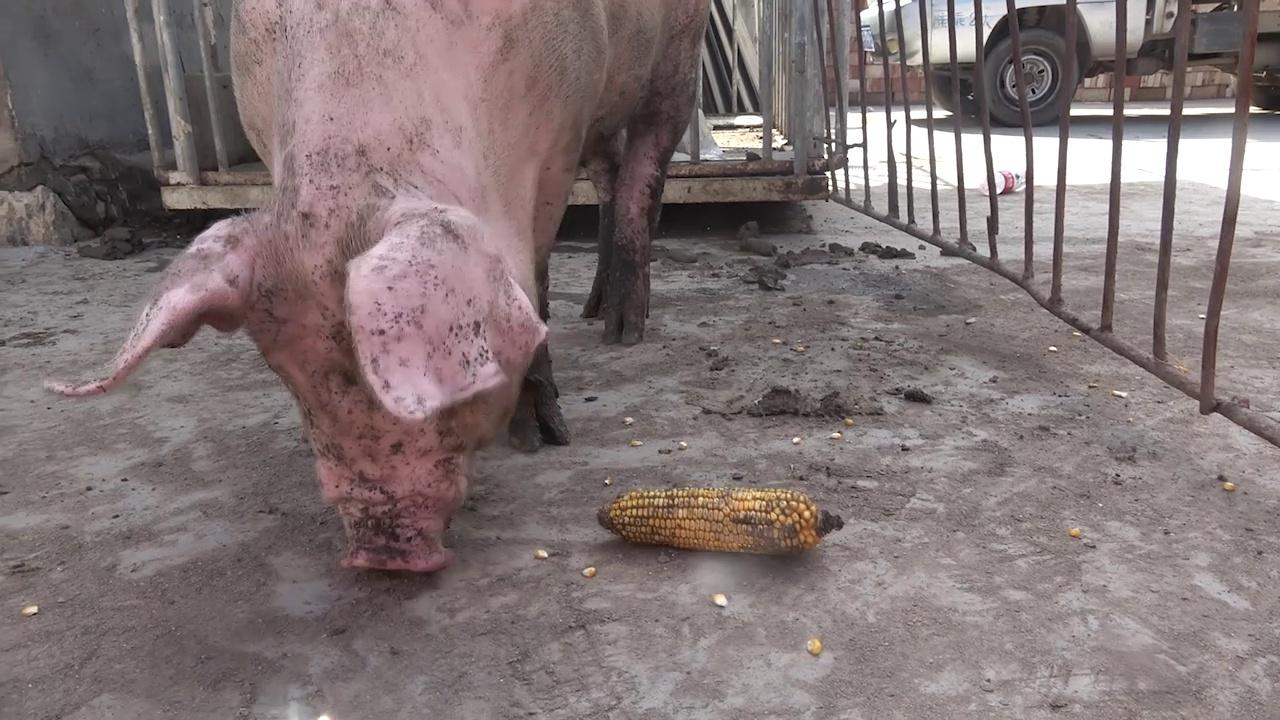Face: (37, 199, 556, 597)
